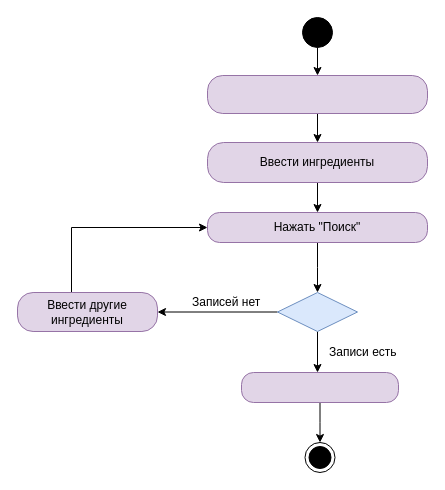
Image size: 445x490. Some labels were removed from this diagram. Here are the shapes that lost their labels. From the top down, the centre of each, then its label:
At (x=317, y=94): "Открыть веб-приложение".
At (x=319, y=387): "Выбрать блюдо".
